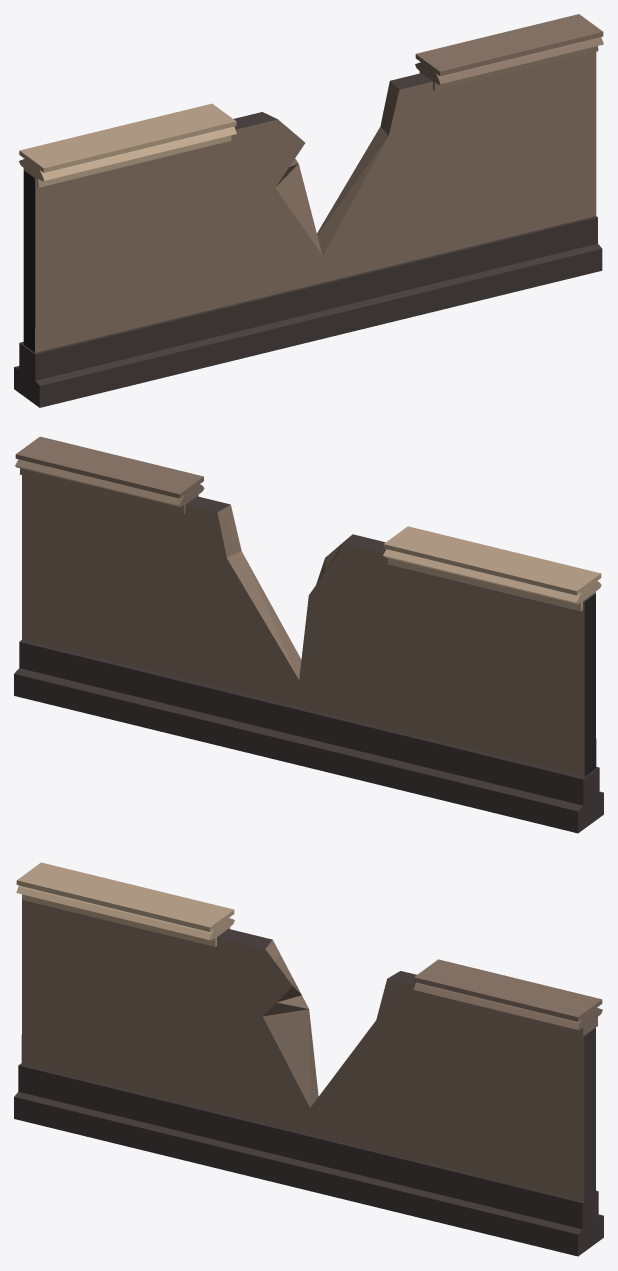
Rendered from ruin3.fbx.
3 renders of one model, top to bottom at view 1: azimuth 30°, elevation 25°; view 2: azimuth 150°, elevation 25°; view 3: azimuth 330°, elevation 25°, orthographic.
Parts seen in each view (by area): view 1: Object.001; view 2: Object.001; view 3: Object.001.
Boxes of the visible parts, x1,y1,x2,y2 form: Object.001: (14, 14, 603, 407); Object.001: (14, 436, 603, 833); Object.001: (14, 862, 603, 1256).
Bounding box in the file's own units: 13412 × 5445 × 1112.
